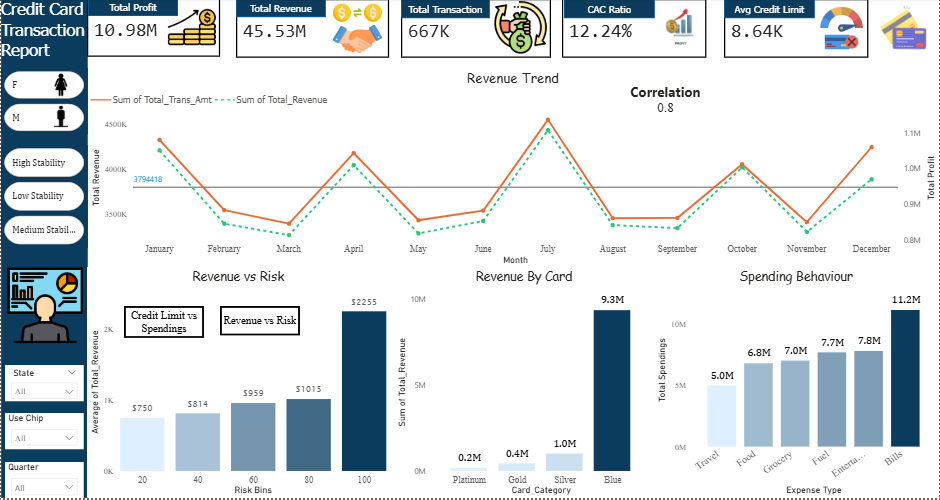

What the dashboard file says about the page in this screenshot:
{"tool":"powerbi","page":{"name":"Transaction Dashboard","canvas":[1500,800],"ordinal":1},"visuals":[{"type":"shape","box":[0,0,138.7,800],"z":0},{"type":"cardVisual","title":"Total Customers","fields":{"Data":["Sum(CreditCard.Total_Revenue)"]},"box":[136.8,0,213.1,93.6],"z":1000},{"type":"cardVisual","title":"Total Customers","fields":{"Data":["Sum(CreditCard.Total_Trans_Amt)"]},"box":[382.4,0,244.8,92.8],"z":2000},{"type":"cardVisual","title":"Total Customers","fields":{"Data":["Sum(CreditCard.Total_Trans_Vol)"]},"box":[665.6,1.6,241.6,92.8],"z":3000},{"type":"cardVisual","title":"Total Customers","fields":{"Data":["Avg(CreditCard.CAC_Ratio)"]},"box":[942.4,1.6,230.4,92.8],"z":4000},{"type":"cardVisual","title":"Total Customers","fields":{"Data":["50 States.AVG_Credit_limit"]},"box":[1200,1.6,230.4,92.8],"z":5000},{"type":"shape","box":[382.4,1.6,144,28.8],"z":6000},{"type":"shape","box":[665.6,1.6,142.4,30.4],"z":7000},{"type":"shape","box":[942.4,1.6,144,30.4],"z":8000},{"type":"shape","box":[1200,1.6,145.6,30.4],"z":9000},{"type":"lineStackedColumnComboChart","title":"Revenue By Card","fields":{"Category":["CreditCard.Card_Category"],"Y":["Sum(CreditCard.Total_Revenue)"]},"box":[629,430.6,416.1,369.4],"z":10000},{"type":"lineClusteredColumnComboChart","title":"Spending Behaviour","fields":{"Category":["CreditCard.Exp Type"],"Y":["Sum(CreditCard.Total_Trans_Amt)"]},"box":[1045.2,430.6,454.8,369.4],"z":11000},{"type":"advancedSlicerVisual","title":"Gender","fields":{"Values":["customer.Gender"]},"box":[0,111.3,138.7,98.4],"z":12000},{"type":"advancedSlicerVisual","title":"Gender","fields":{"Values":["Financial_Stability.Stability_Category"]},"box":[0,224.2,138.7,166.1],"z":13000},{"type":"slicer","title":"Quarter","fields":{"Values":["CreditCard.Week_Start_Date.Variation.Date Hierarchy.Quarter"]},"box":[6.5,741.9,125.8,58.1],"z":14000},{"type":"lineClusteredColumnComboChart","title":"Credit Limit vs Spendings","fields":{"Category":["CreditCard.Credit_Limit_Bins"],"Y":["Avg(CreditCard.Total_Trans_Amt)"]},"box":[140,448.9,488.6,351.2],"z":16000},{"type":"actionButton","title":"Button2","box":[196.9,492.1,128,51.2],"z":17000},{"type":"actionButton","title":"Button1","box":[350.4,492.1,128,47.2],"z":18000},{"type":"slicer","title":"Use Chip","fields":{"Values":["CreditCard.Use Chip"]},"box":[6.5,664.5,125.8,58.1],"z":19000},{"type":"slicer","title":"Use Chip","fields":{"Values":["50 States.State"]},"box":[6.5,587.1,125.8,58.1],"z":20000},{"type":"image","box":[3.2,390.3,135.5,177.4],"z":21000},{"type":"image","box":[261.3,0,88.7,93.5],"z":22000},{"type":"image","box":[526.4,0,102.4,92.8],"z":23000},{"type":"image","box":[808,0,99.2,92.8],"z":24000},{"type":"image","box":[1086.4,0,86.4,92.8],"z":25000},{"type":"image","box":[1345.6,1.6,84.8,92.8],"z":26000},{"type":"lineChart","title":"Revenue Trend","fields":{"Category":["CreditCard.Week_Start_Date.Variation.Date Hierarchy.Month","CreditCard.Week_Start_Date.Variation.Date Hierarchy.Day"],"Y2":["Sum(CreditCard.Total_Revenue)"],"Y":["Sum(CreditCard.Total_Trans_Amt)"]},"box":[139.8,112.2,1360.2,318.9],"z":27000},{"type":"shape","box":[139.2,0,144,28.8],"z":28000},{"type":"textbox","box":[992,129.6,131.2,80],"z":29000}]}

Visuals, with their boxes in screenshot pixels (x1, y1, x2, y2), scaled from the page's 1500x800 canvas onto the 940x500 screenshot:
shape: bbox=(0, 0, 87, 499)
"Total Customers" cardVisual: bbox=(86, 0, 219, 58)
"Total Customers" cardVisual: bbox=(240, 0, 393, 58)
"Total Customers" cardVisual: bbox=(417, 1, 569, 59)
"Total Customers" cardVisual: bbox=(591, 1, 735, 59)
"Total Customers" cardVisual: bbox=(752, 1, 896, 59)
shape: bbox=(240, 1, 330, 19)
shape: bbox=(417, 1, 506, 20)
shape: bbox=(591, 1, 681, 20)
shape: bbox=(752, 1, 843, 20)
"Revenue By Card" lineStackedColumnComboChart: bbox=(394, 269, 655, 499)
"Spending Behaviour" lineClusteredColumnComboChart: bbox=(655, 269, 939, 499)
"Gender" advancedSlicerVisual: bbox=(0, 70, 87, 131)
"Gender" advancedSlicerVisual: bbox=(0, 140, 87, 244)
"Quarter" slicer: bbox=(4, 464, 83, 499)
"Credit Limit vs Spendings" lineClusteredColumnComboChart: bbox=(88, 281, 394, 499)
"Button2" actionButton: bbox=(123, 308, 204, 340)
"Button1" actionButton: bbox=(220, 308, 300, 337)
"Use Chip" slicer: bbox=(4, 415, 83, 452)
"Use Chip" slicer: bbox=(4, 367, 83, 403)
image: bbox=(2, 244, 87, 355)
image: bbox=(164, 0, 219, 58)
image: bbox=(330, 0, 394, 58)
image: bbox=(506, 0, 569, 58)
image: bbox=(681, 0, 735, 58)
image: bbox=(843, 1, 896, 59)
"Revenue Trend" lineChart: bbox=(88, 70, 939, 269)
shape: bbox=(87, 0, 177, 18)
textbox: bbox=(622, 81, 704, 131)
